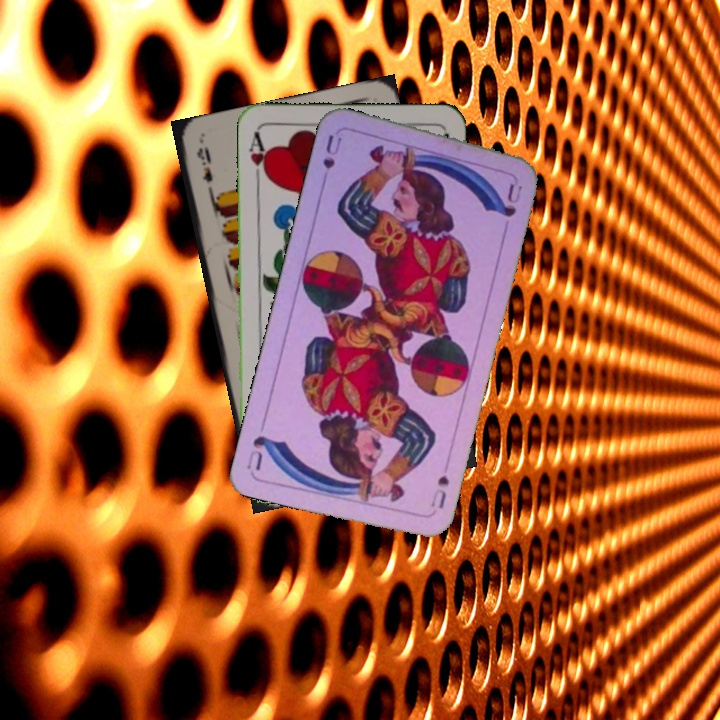E9: (192, 142, 217, 199)
HA: (245, 128, 271, 187)
SU: (317, 130, 344, 189), (426, 471, 452, 516)
